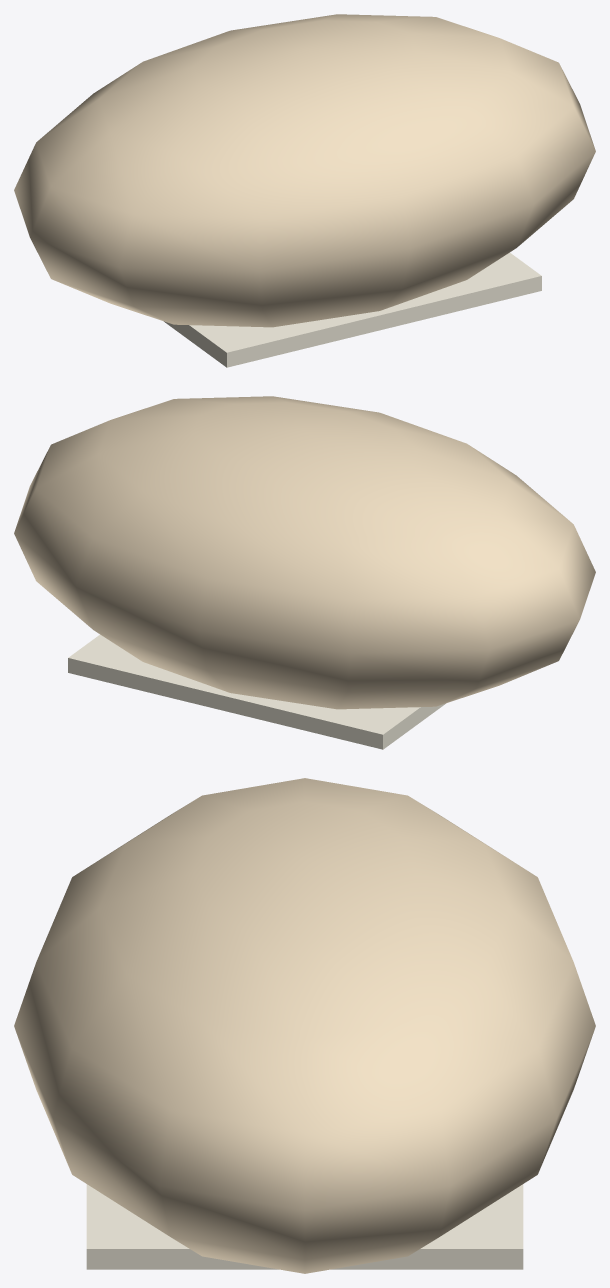
File: prop-bread.glb
3 renders of one model, top to bottom at view 1: azimuth 30°, elevation 25°; view 2: azimuth 150°, elevation 25°; view 3: azimuth 270°, elevation 25°, orthographic. The views are drawn at different scales.
Parts seen in each view (by area): view 1: bread; view 2: bread; view 3: bread.
Boxes of the visible parts, x1,y1,x2,y2 form: bread: (14,14,595,367); bread: (14,396,595,749); bread: (14,778,595,1273).
Size of the model in its own units: 0.96 by 0.4032 by 0.64.
